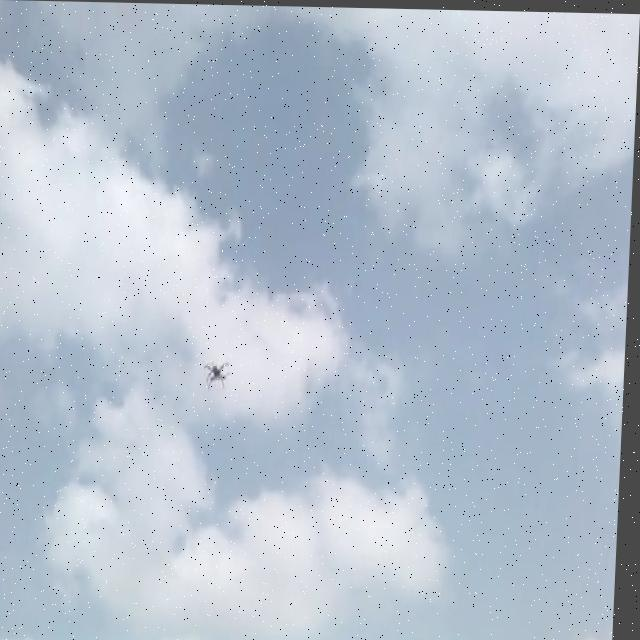drone: (203, 352, 235, 392)
